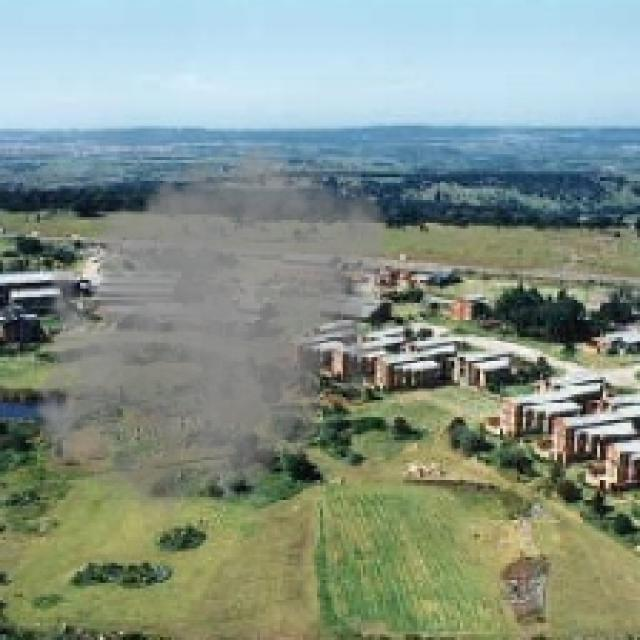Smoke: (22, 131, 394, 543)
